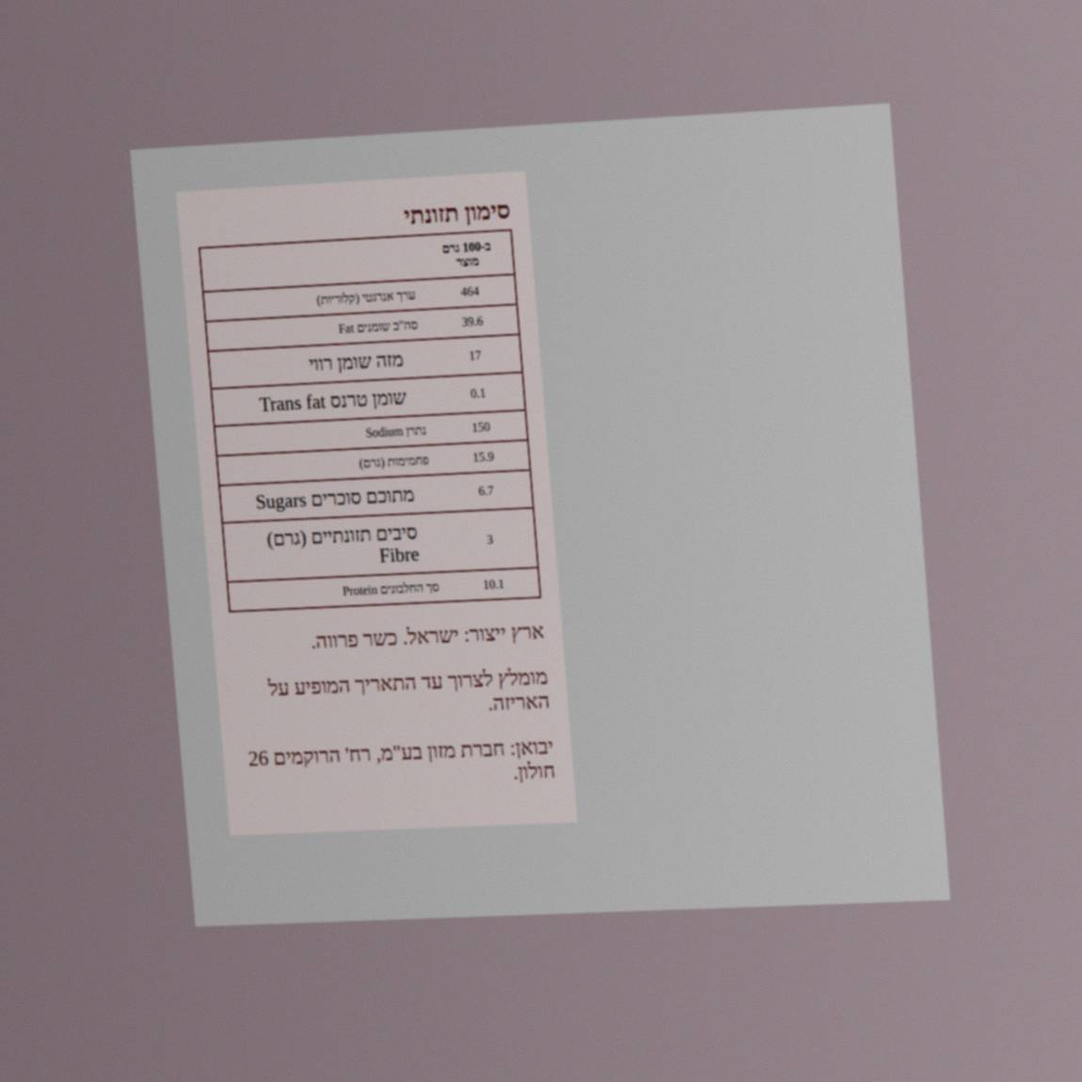carbs: (470, 448, 496, 466)
energy: (459, 282, 481, 300)
fat: (459, 312, 485, 330)
protein: (481, 575, 506, 593)
